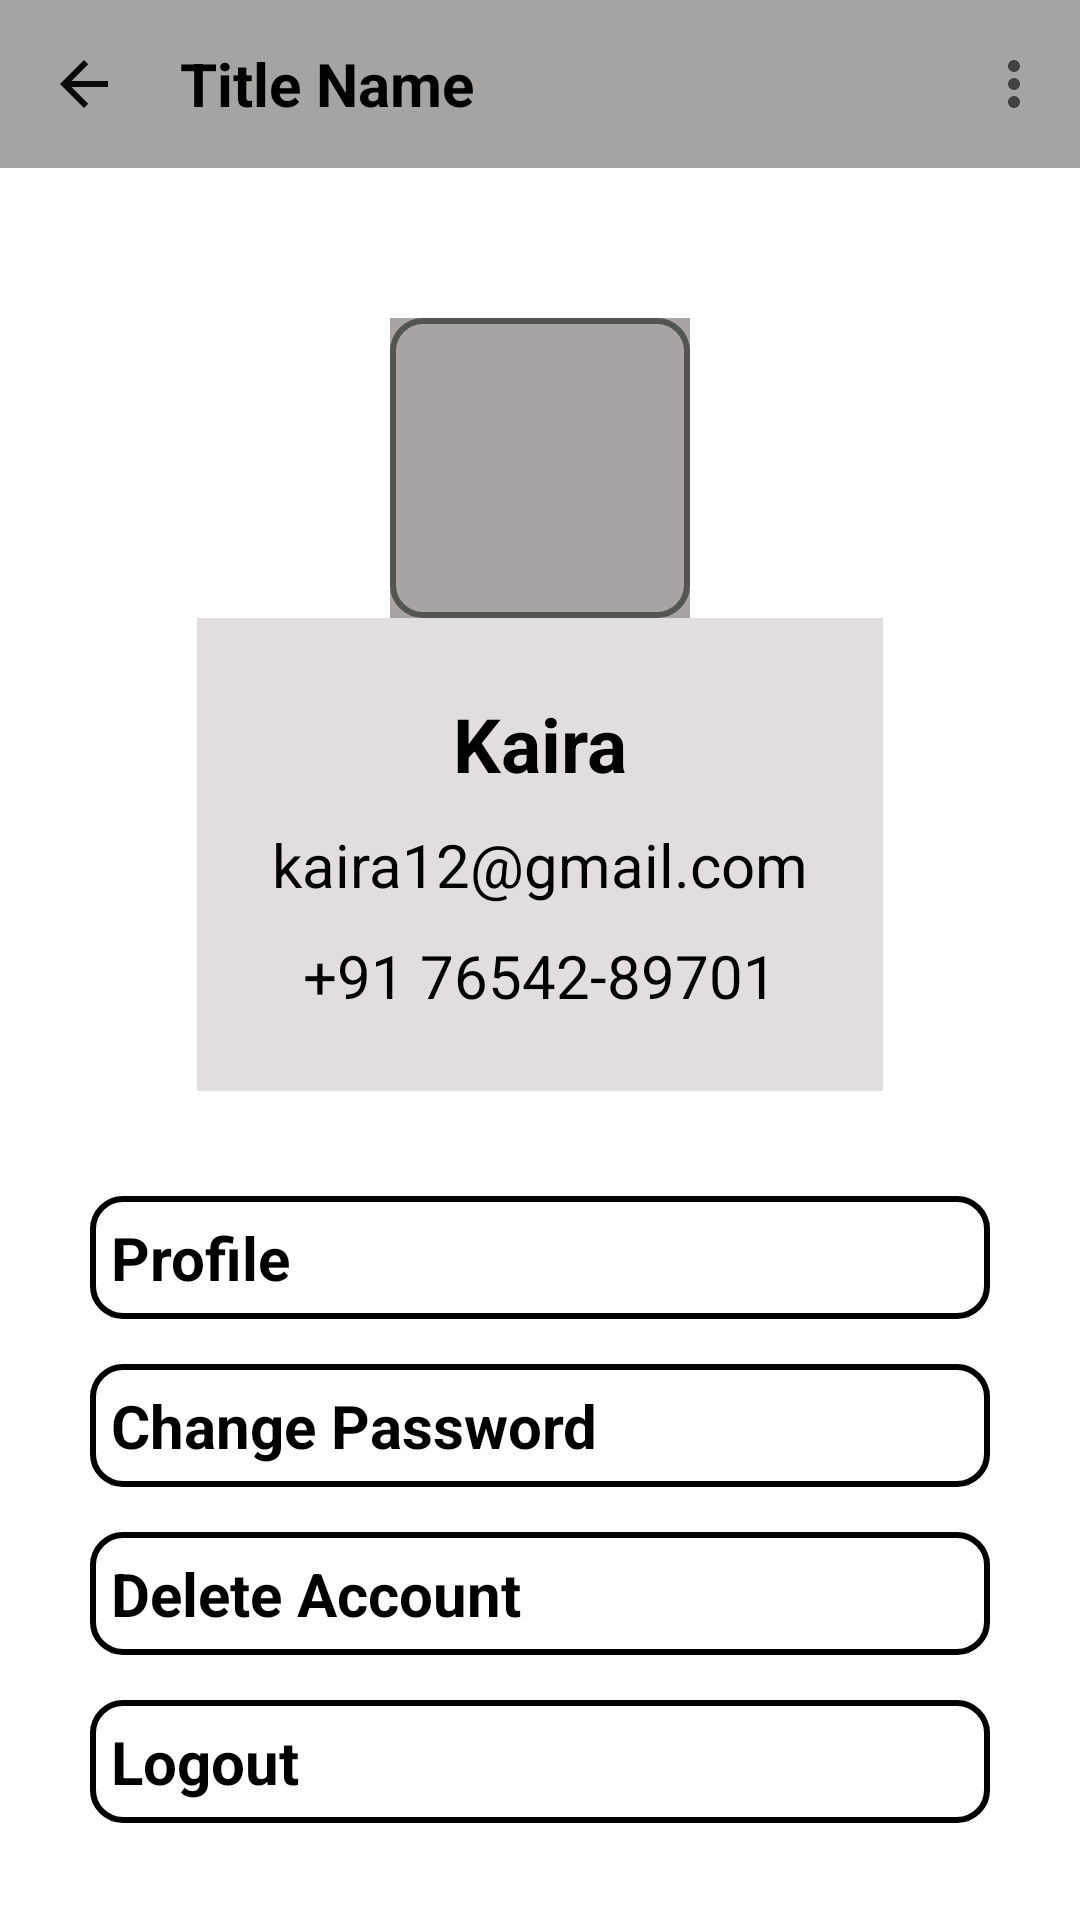

Icons on this 1080w x 1920h Android screen, each with its box as (x1, y1, x2, y2):
back arrow: (60, 60, 108, 108)
